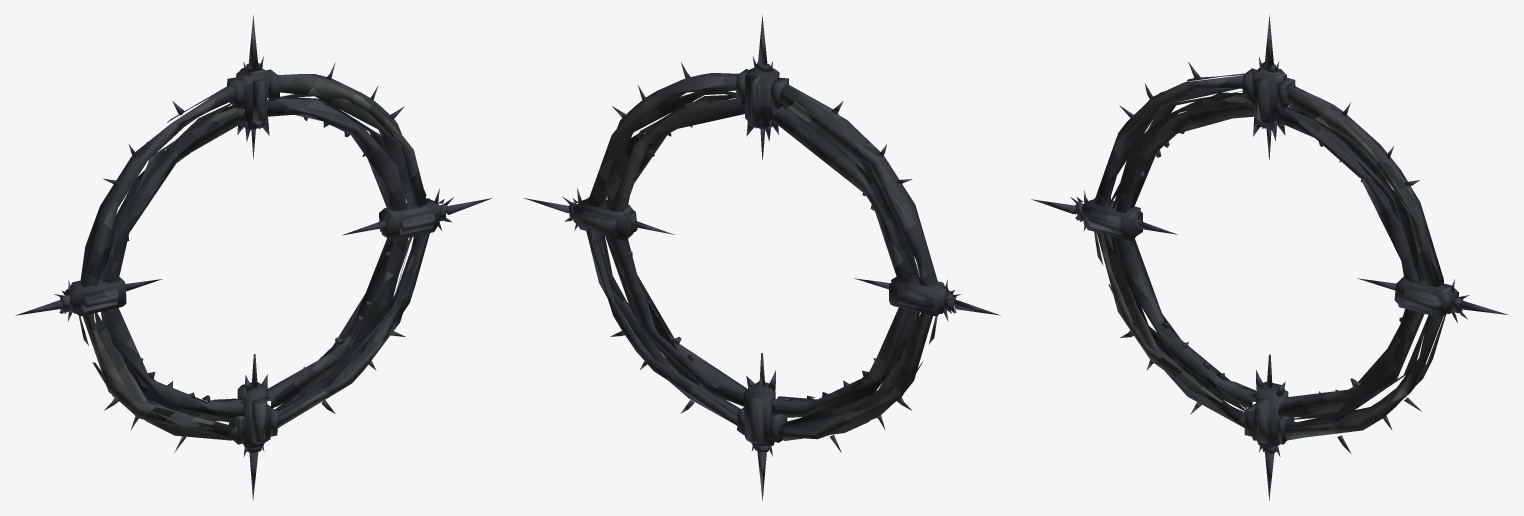
File: dyson_1_lod.glb
The picture shows the model from 3 angles, left to right: view 1: azimuth 30°, elevation 25°; view 2: azimuth 150°, elevation 25°; view 3: azimuth 330°, elevation 25°; orthographic projection.
Size of the model in its own units: 1 by 0.9727 by 0.0681.
Materials: 1 (1 with a texture image).
